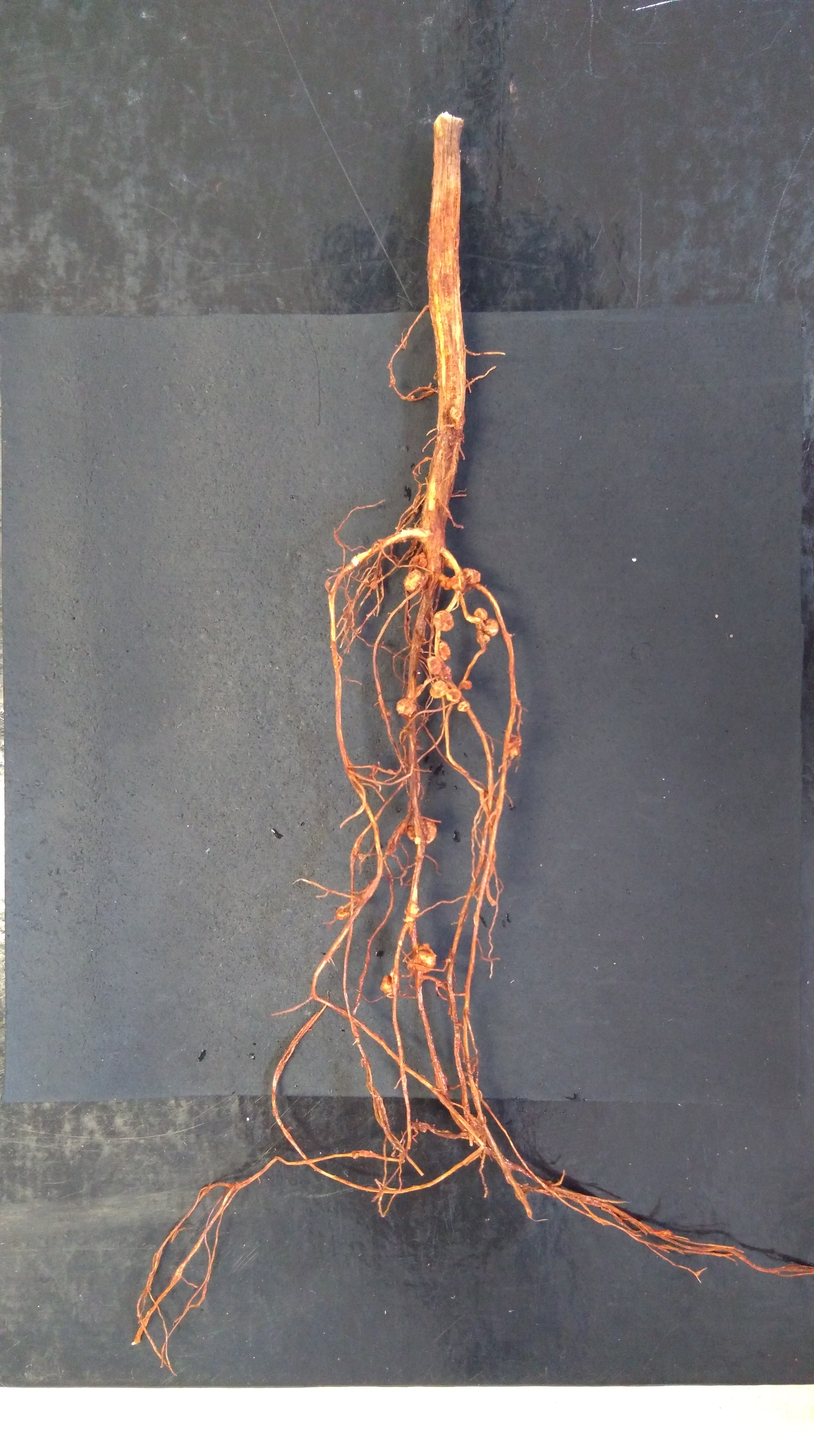nodule: (405, 819, 439, 847), (402, 568, 428, 595), (412, 947, 438, 974), (432, 608, 456, 633), (394, 696, 417, 718), (402, 900, 422, 925), (429, 679, 449, 700), (461, 566, 483, 585), (425, 655, 443, 676), (482, 617, 500, 637), (449, 572, 467, 592), (508, 732, 522, 757), (378, 973, 394, 994), (409, 552, 428, 569), (438, 640, 453, 661), (444, 687, 463, 703), (438, 575, 455, 591), (472, 606, 488, 621), (335, 908, 352, 922), (448, 406, 463, 420), (455, 699, 471, 712), (461, 679, 474, 691), (368, 581, 378, 591)
